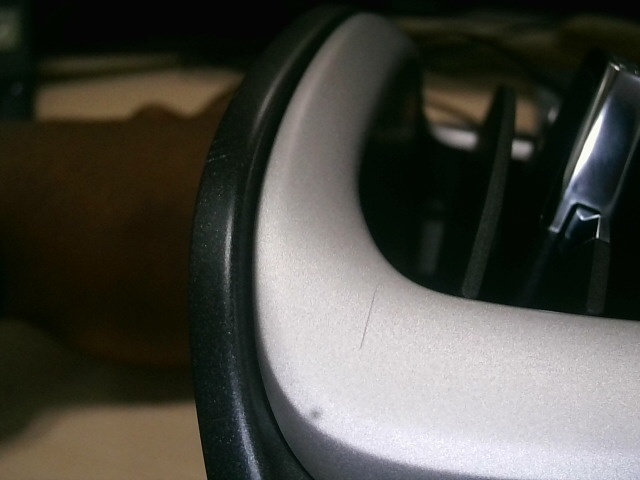NG: (352, 283, 391, 349), (199, 142, 234, 189)
